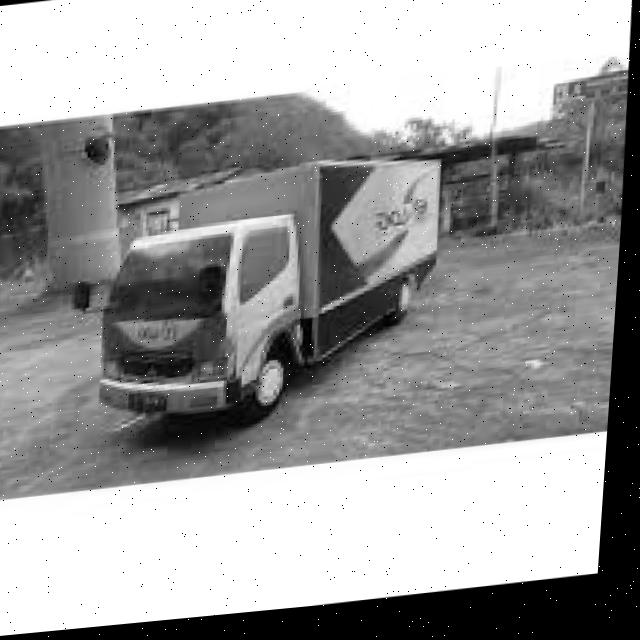truck: (59, 189, 338, 471)
